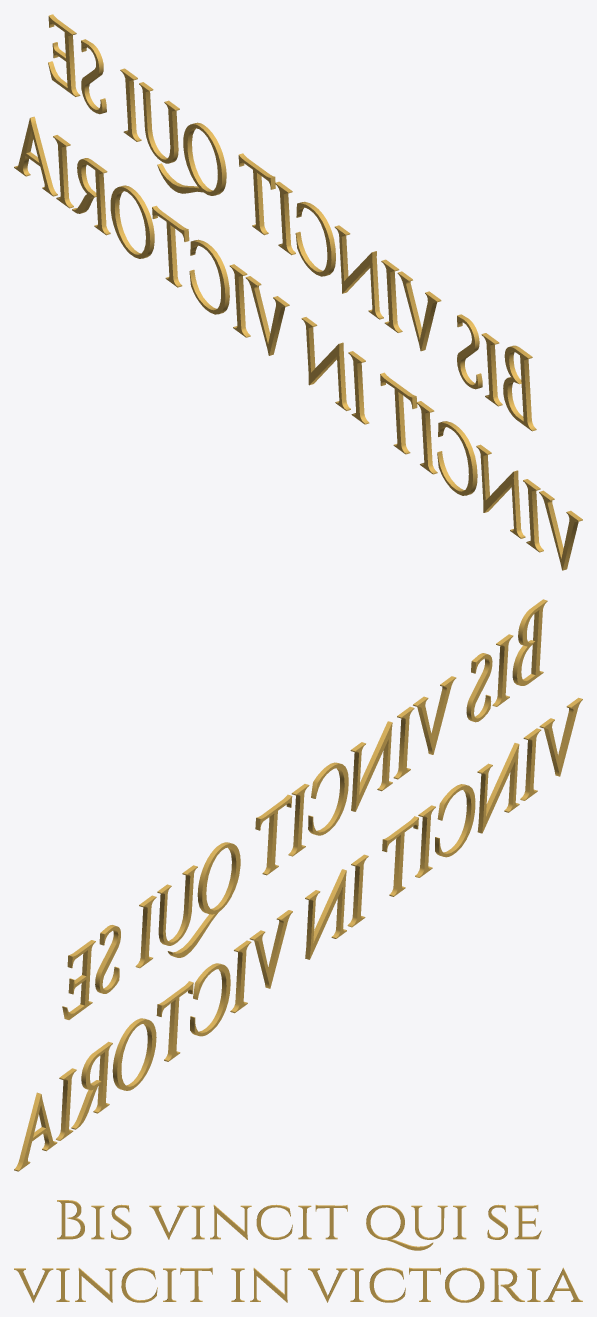
Rendered from mesh_text_for_entrance_gate.fbx.
3 views of the same model, one above another, from view 1: azimuth 30°, elevation 25°; view 2: azimuth 150°, elevation 25°; view 3: azimuth 270°, elevation 25° (orthographic). The views are drawn at different scales.
Visible parts, largest first — view 1: Text_Mesh; view 2: Text_Mesh; view 3: Text_Mesh.
Boxes of the visible parts, x1=… form: Text_Mesh: x1=14, y1=14, x2=582, y2=570; Text_Mesh: x1=14, y1=599, x2=582, y2=1171; Text_Mesh: x1=14, y1=1200, x2=582, y2=1302.
Size of the model in its own units: 12.81 by 159 by 824.
